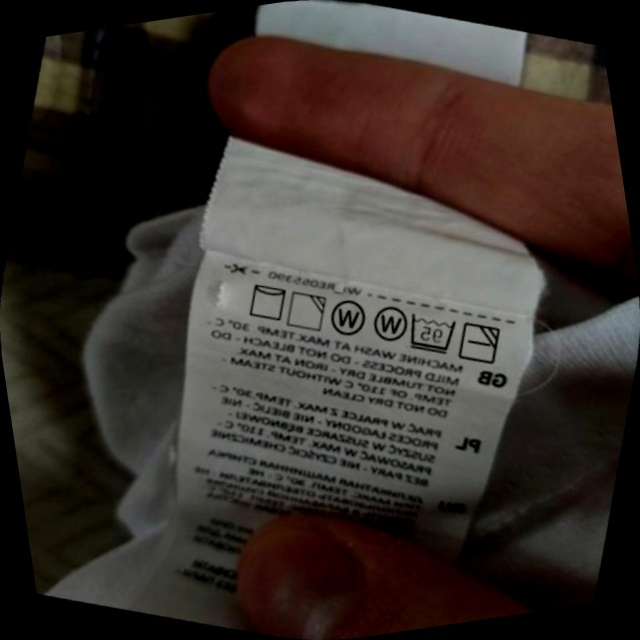95C: (398, 302, 465, 364)
dry_flat_in_shade: (450, 312, 510, 374)
line_dry: (238, 272, 296, 330)
shade_dry: (277, 282, 335, 340)
wet_clean: (320, 290, 376, 347), (362, 293, 417, 351)
